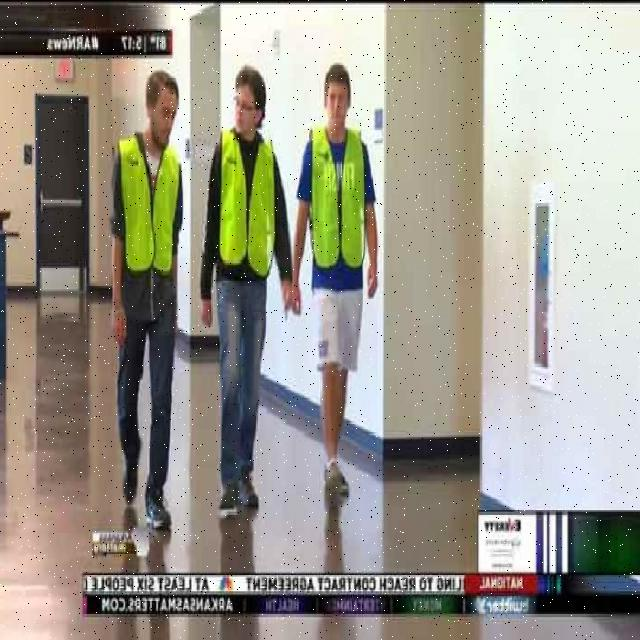Vest: (118, 142, 187, 269), (306, 128, 364, 270), (214, 136, 272, 266)
